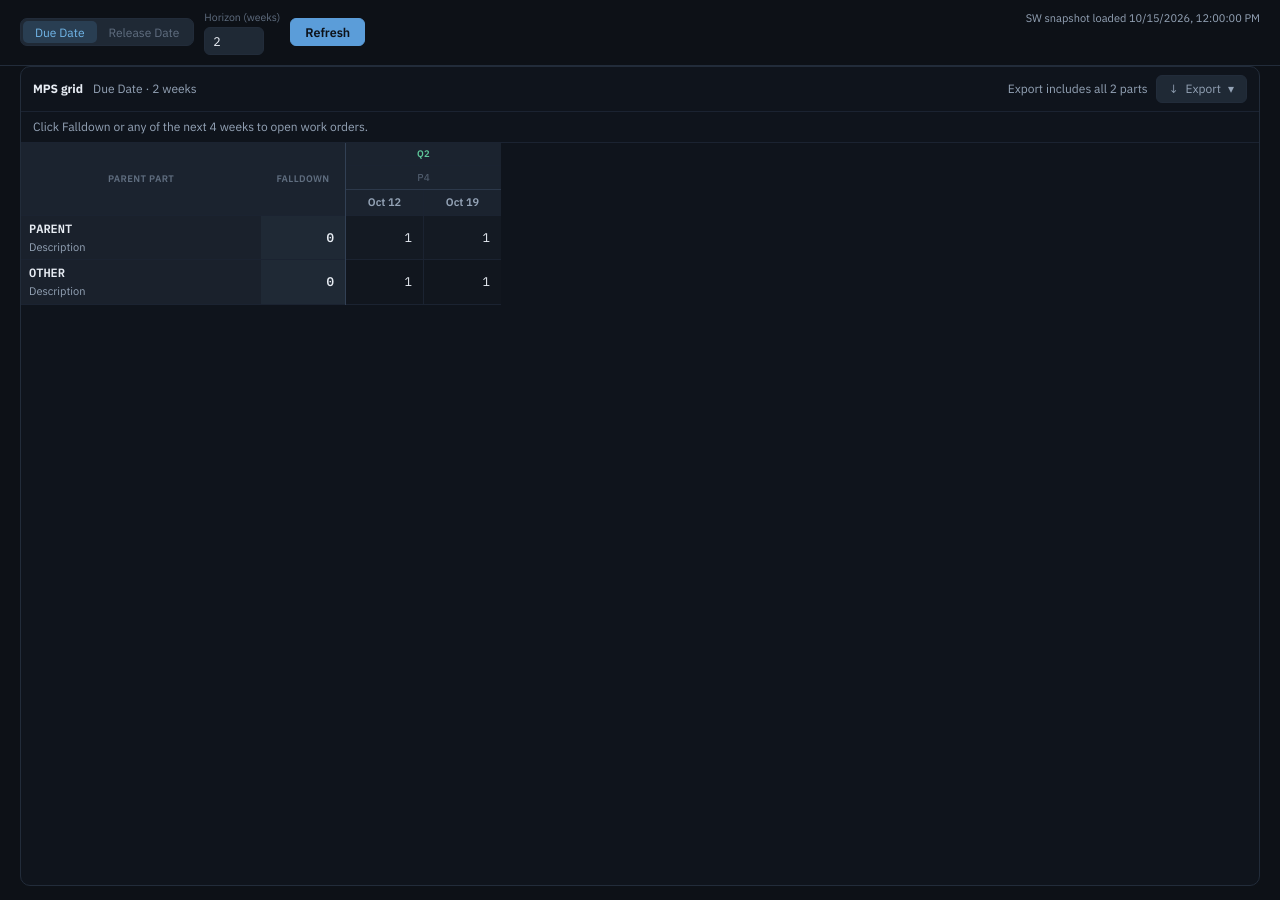
Test: invalidates MPS preparation on meaningful refresh changes
What coordinates should you click on to do the following:
click the button "↓ Export ▾"
I would click on:
 (1201, 89)
Its box is [1156, 75, 1247, 103].
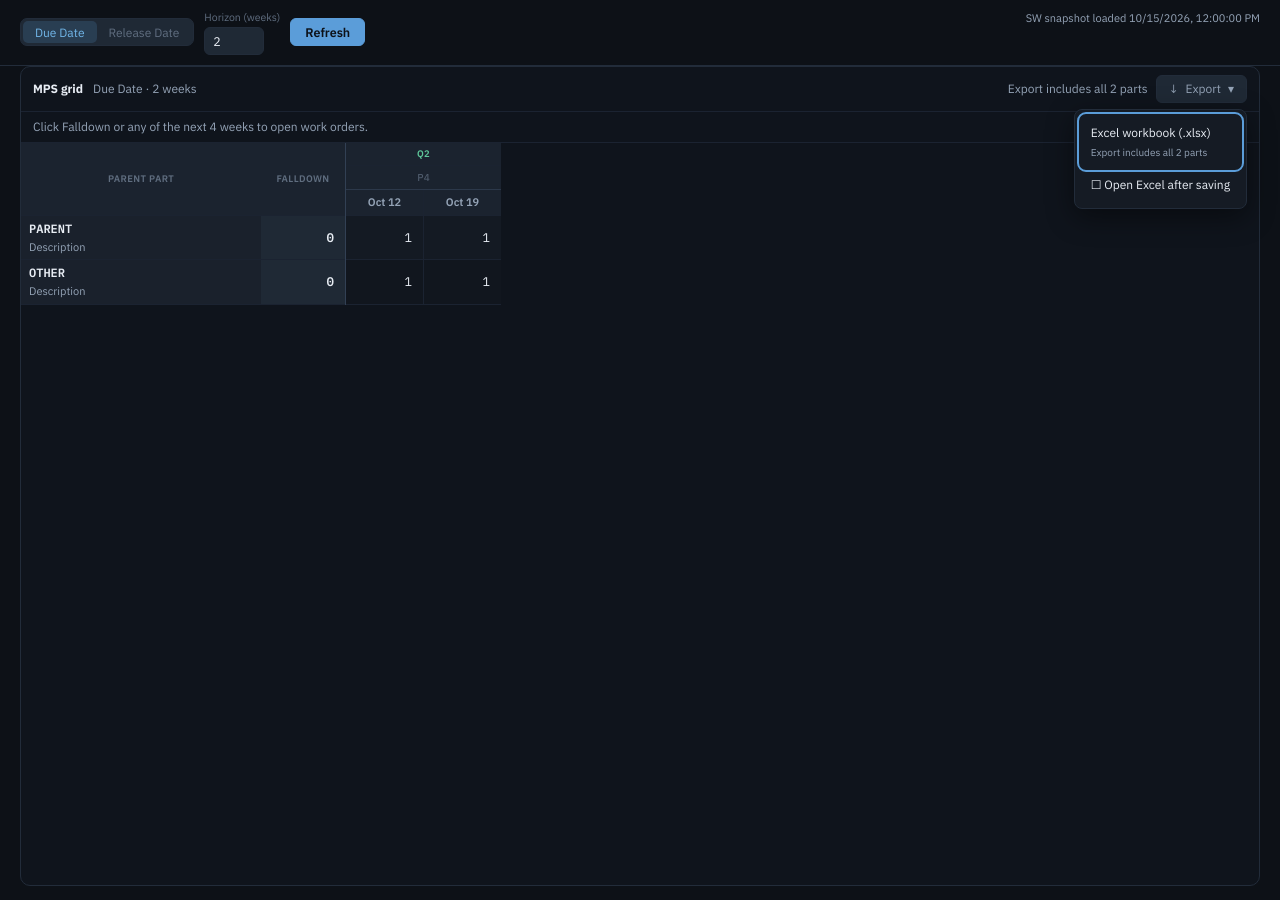
What coordinates should you click on to do the following:
click the menu item "Excel workbook (.xlsx) Export includes all 2 parts"
I would click on:
 (1160, 142)
Its box is [1081, 116, 1240, 168].
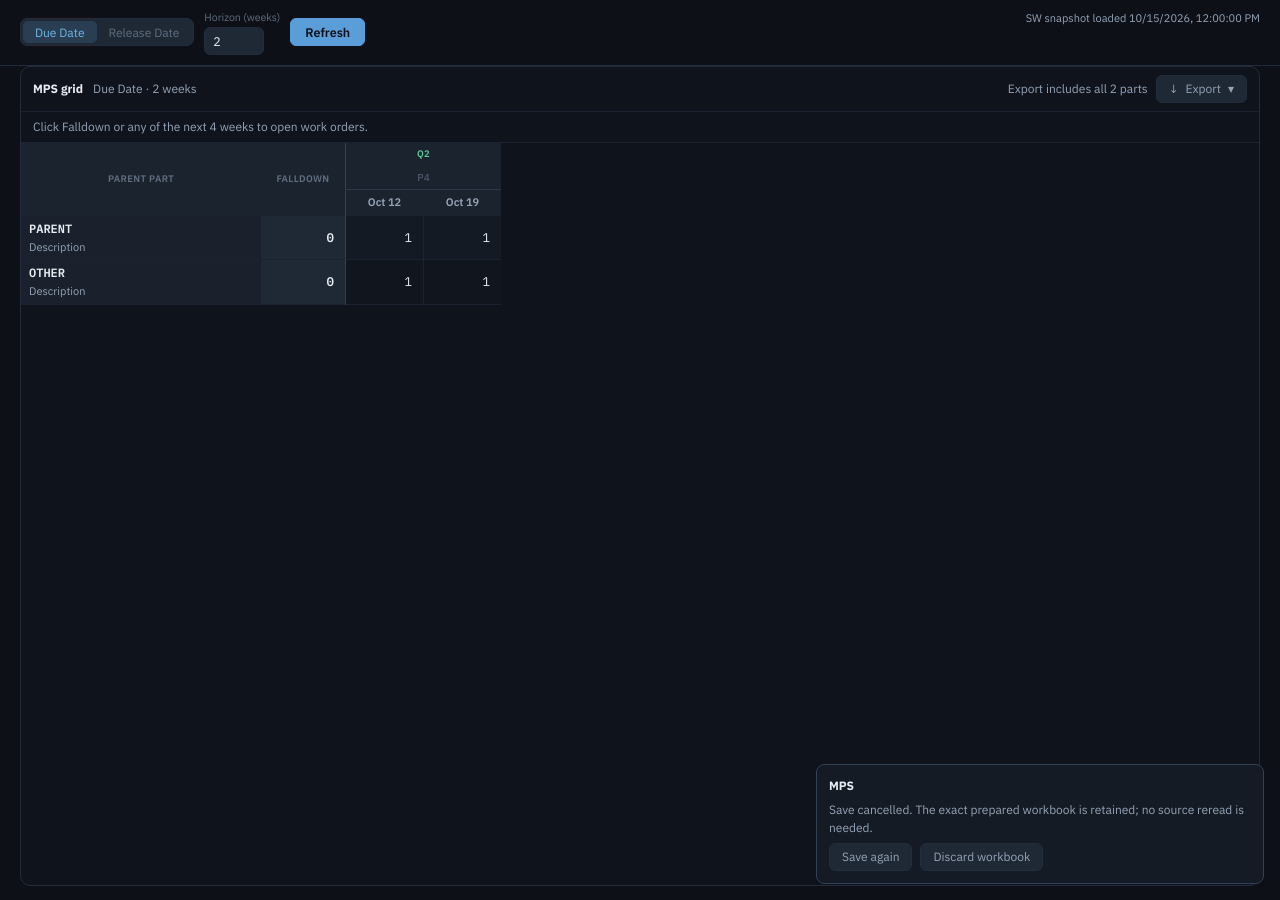
Now the button "Save again" is shown, box [829, 843, 912, 871]
